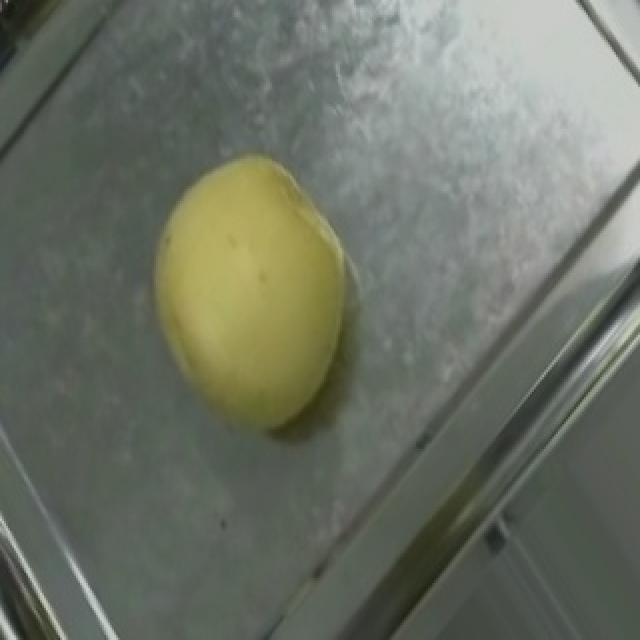Fruit: (98, 117, 402, 476)
